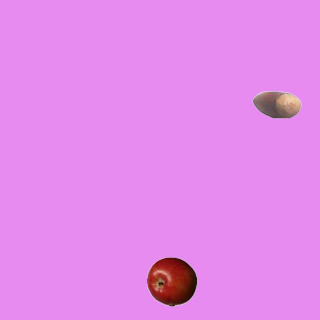Apple Braeburn: (146, 256, 196, 306)
Hazelnut: (251, 79, 301, 129)
